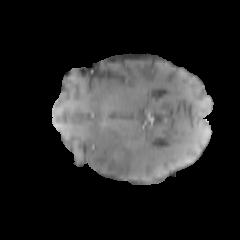glioma: (84, 134, 193, 181)
